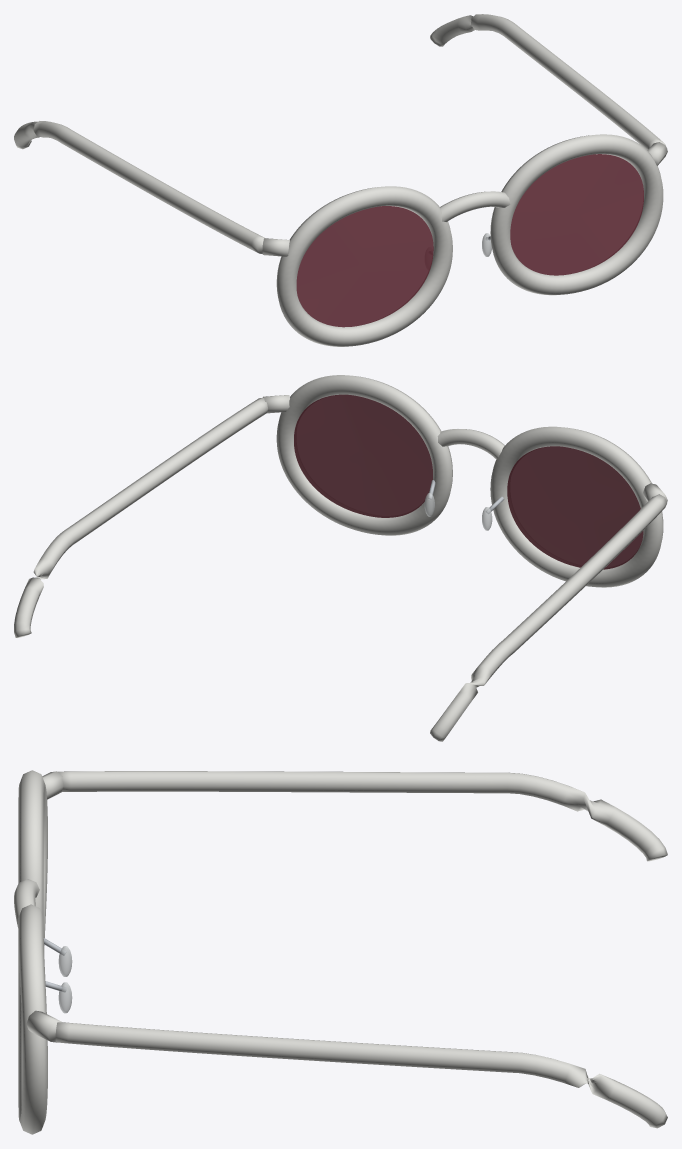
Rendered from tim-67-v1.glb.
3 renders of one model, top to bottom at view 1: azimuth 30°, elevation 25°; view 2: azimuth 150°, elevation 25°; view 3: azimuth 270°, elevation 25°, orthographic. The views are drawn at different scales.
Parts seen in each view (by area): view 1: lens_right, lens_left, rim_right, rim_left, temple_right, temple_left, bridge; view 2: lens_left, lens_right, rim_left, rim_right, temple_left, temple_right, bridge; view 3: temple_left, temple_right, rim_left, rim_right, endpiece_left, bridge.
Boxes of the visible parts, x1=… form: lens_right: x1=296, y1=206, x2=433, y2=327; lens_left: x1=510, y1=154, x2=643, y2=275; rim_right: x1=276, y1=186, x2=452, y2=346; rim_left: x1=490, y1=134, x2=663, y2=295; temple_right: x1=14, y1=121, x2=265, y2=253; temple_left: x1=430, y1=14, x2=667, y2=150; bridge: x1=440, y1=191, x2=510, y2=221; lens_left: x1=294, y1=394, x2=432, y2=517; lens_right: x1=507, y1=446, x2=643, y2=569; rim_left: x1=276, y1=375, x2=452, y2=535; rim_right: x1=490, y1=426, x2=663, y2=587; temple_left: x1=14, y1=397, x2=267, y2=637; temple_right: x1=430, y1=494, x2=666, y2=741; bridge: x1=437, y1=429, x2=504, y2=459; temple_left: x1=55, y1=1022, x2=667, y2=1128; temple_right: x1=57, y1=771, x2=667, y2=861; rim_left: x1=18, y1=904, x2=47, y2=1134; rim_right: x1=18, y1=770, x2=47, y2=950; endpiece_left: x1=26, y1=1010, x2=62, y2=1042; bridge: x1=14, y1=879, x2=39, y2=927.
Bounding box in the file's own units: 0.1591 × 0.0514 × 0.1524.
